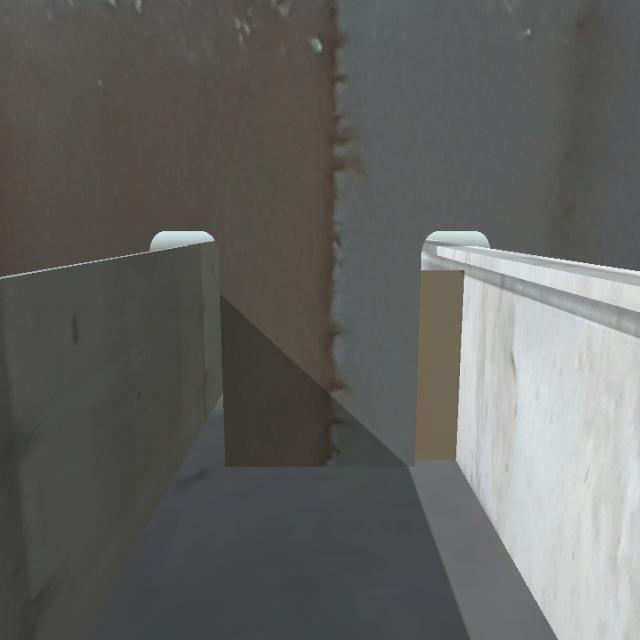fillet_yong_jeop_jang: (222, 453, 460, 474)
longi_yong_jeop_jang: (452, 261, 468, 475)
plate_behind: (418, 268, 458, 468)
